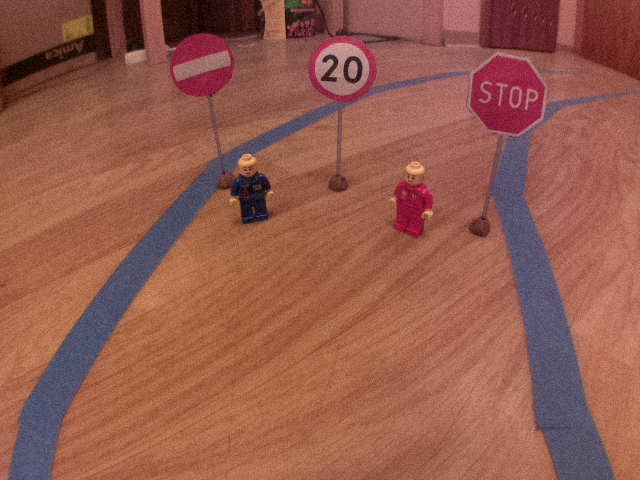LEGO_person: (387, 158, 438, 238), (228, 150, 276, 226)
ogr_20: (306, 35, 378, 103)
stop: (463, 50, 551, 138)
zakaz: (168, 30, 236, 100)
